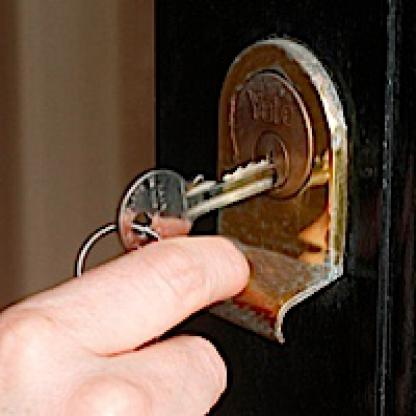keys: (110, 161, 287, 259)
